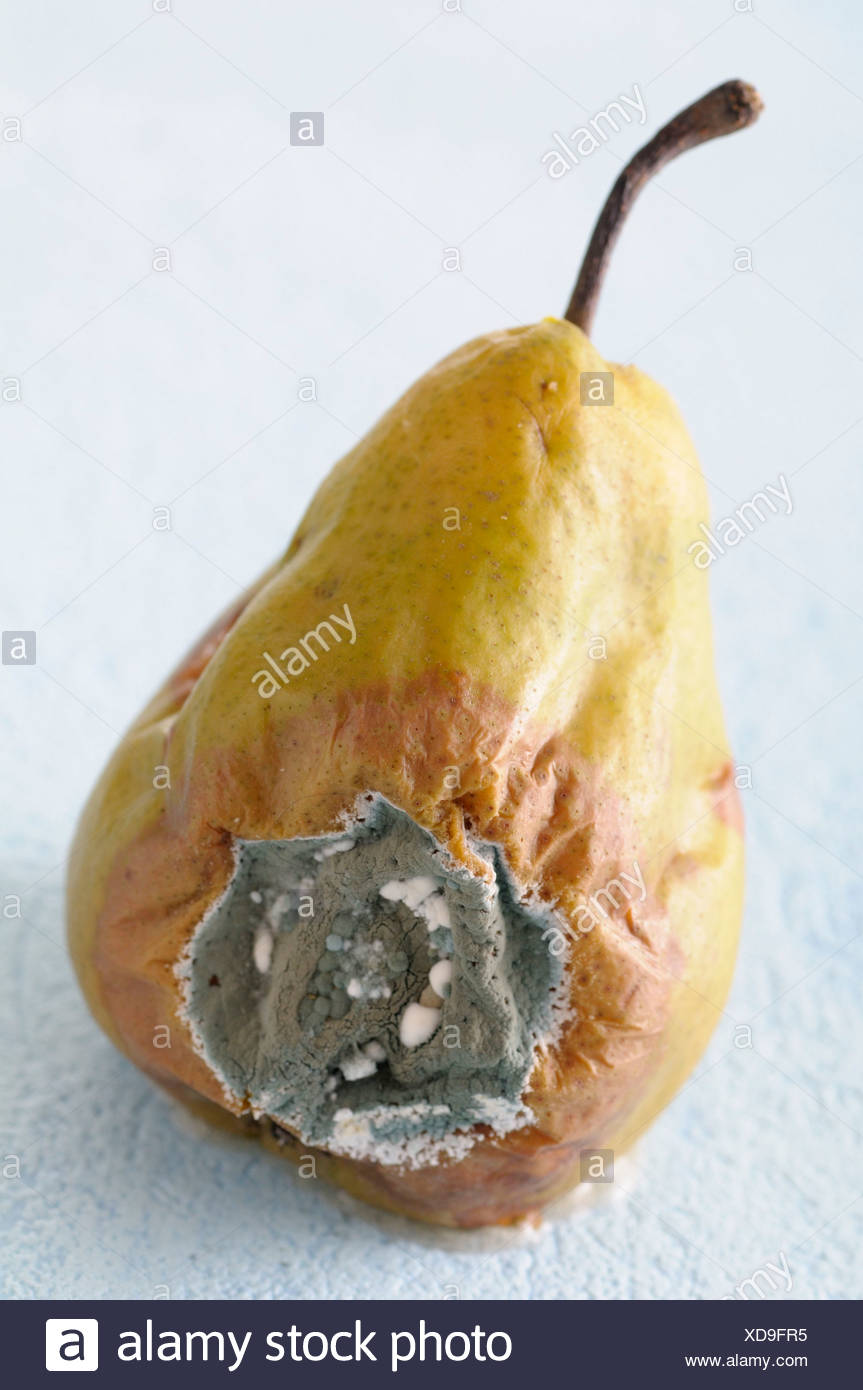damaged_pear: (96, 323, 711, 1238)
